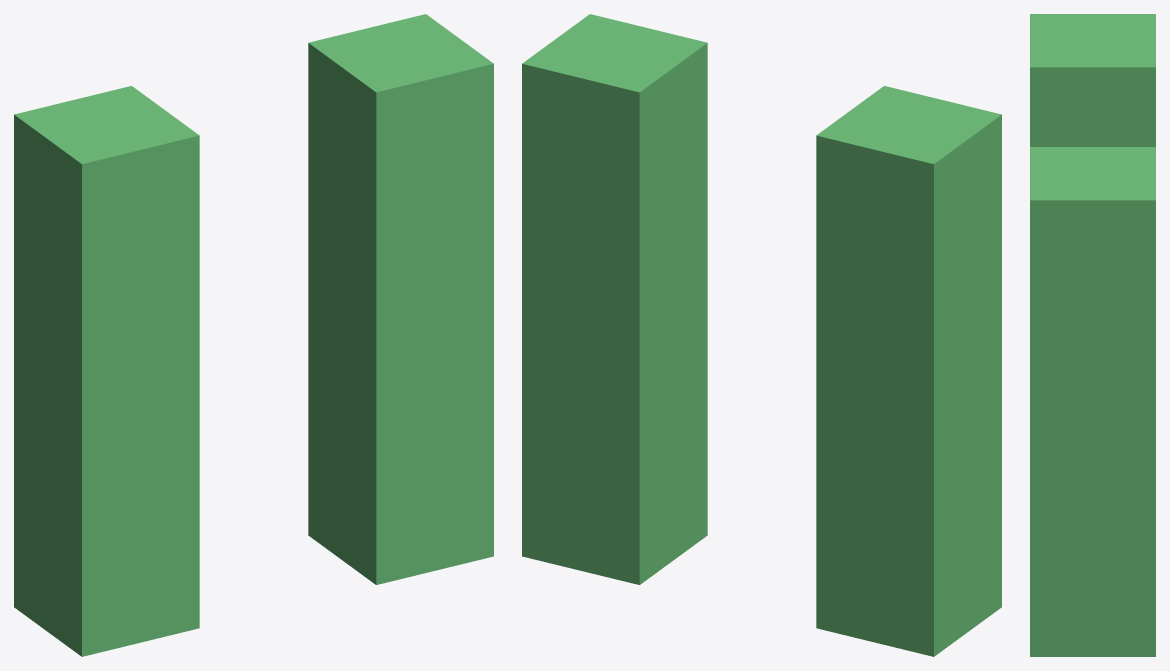
The model's file is legendario_piernas_goblin_01.glb.
3 renders of one model, left to right at view 1: azimuth 30°, elevation 25°; view 2: azimuth 150°, elevation 25°; view 3: azimuth 270°, elevation 25°, orthographic. The views are drawn at different scales.
Visible parts, largest first — view 1: legendario_piernas_goblin; view 2: legendario_piernas_goblin; view 3: legendario_piernas_goblin.
Boxes of the visible parts, <box> form: legendario_piernas_goblin: <box>14,14,493,656</box>; legendario_piernas_goblin: <box>522,14,1001,656</box>; legendario_piernas_goblin: <box>1030,14,1155,656</box>.
Size of the model in its own units: 0.5833 by 0.6667 by 0.1667.
